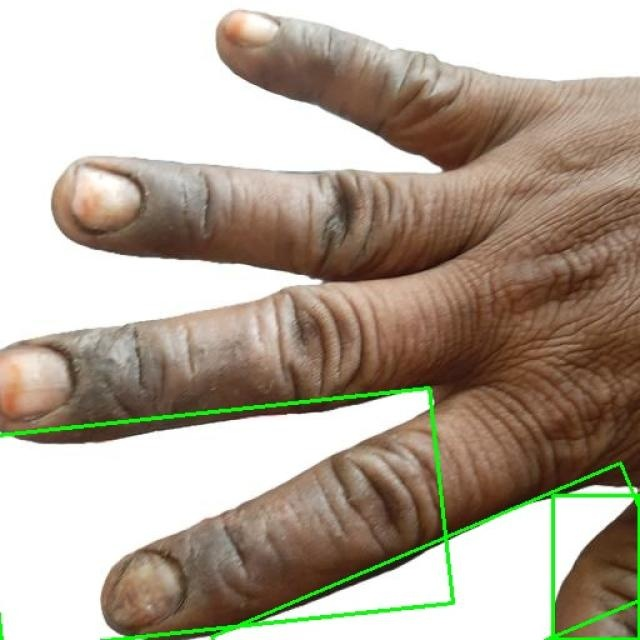Eczema: (0, 388, 454, 640), (212, 464, 640, 640), (552, 495, 639, 639)
